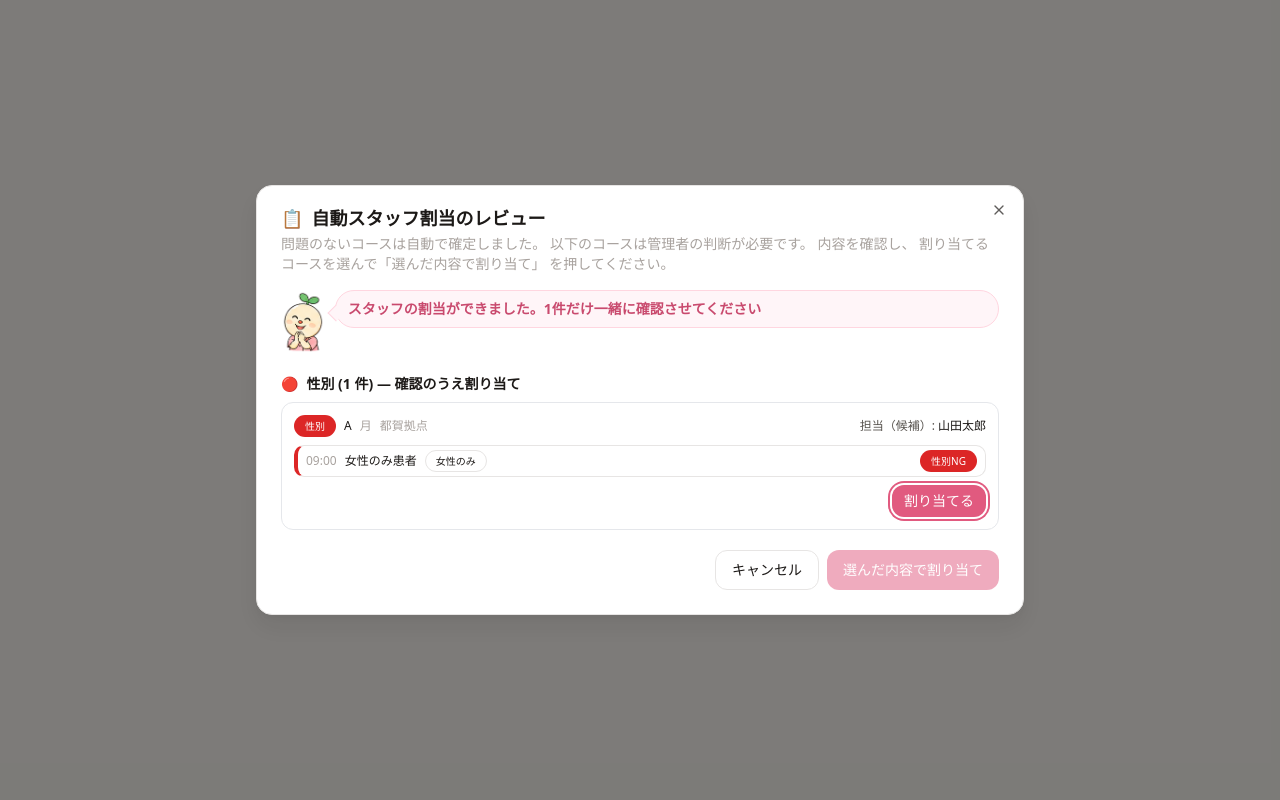
AssignWarningDialog — ⛔ NG スタッフセクション › 🔴 性別カードの also_violates に ng_staff があると確認文言に NG も併記される
Click the button with test id "assign-review-gender-approve".
click(939, 501)  # box [892,485,986,517]
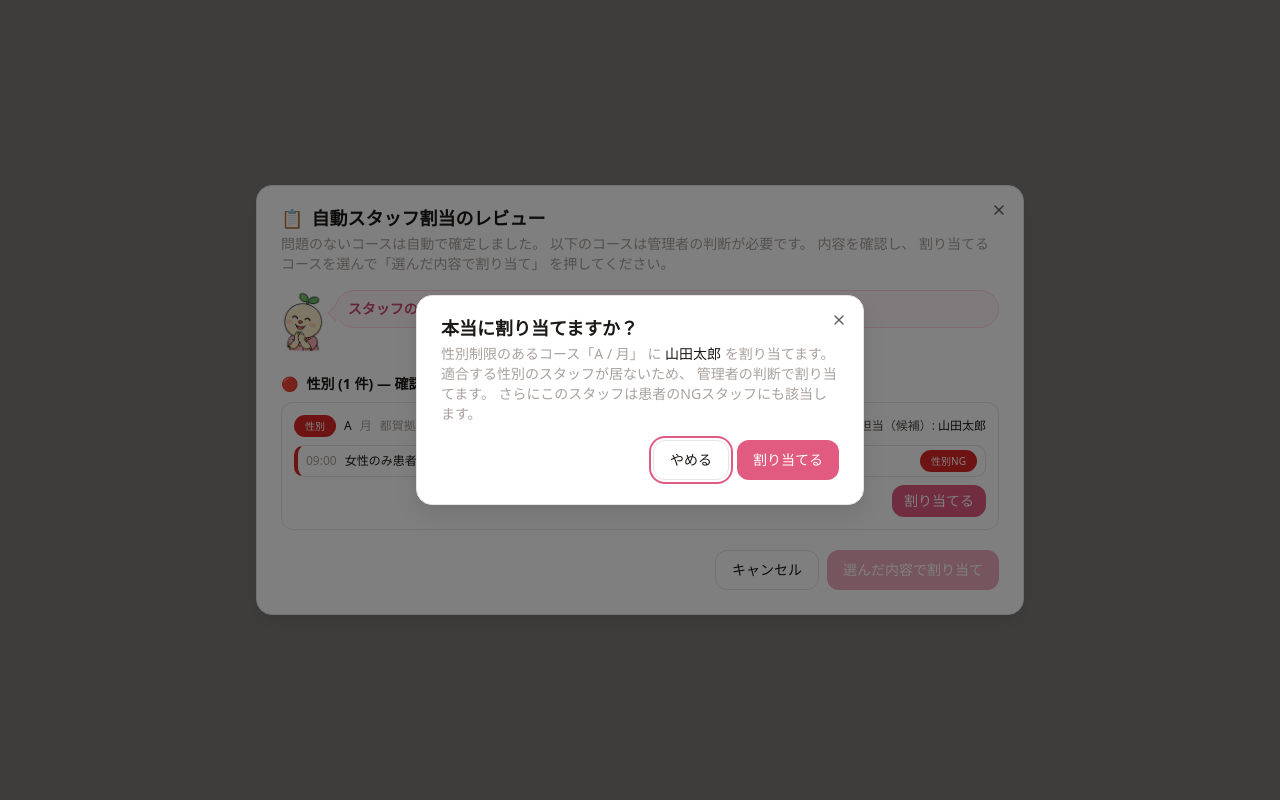
Expected: the dialog with test id "assign-review-gender-confirm" shows "性別制限のあるコース", [441,344,594,363]
Expected: the dialog with test id "assign-review-gender-confirm" shows "さらにこのスタッフは患者のNGスタッフにも該当します", [441,384,827,423]
